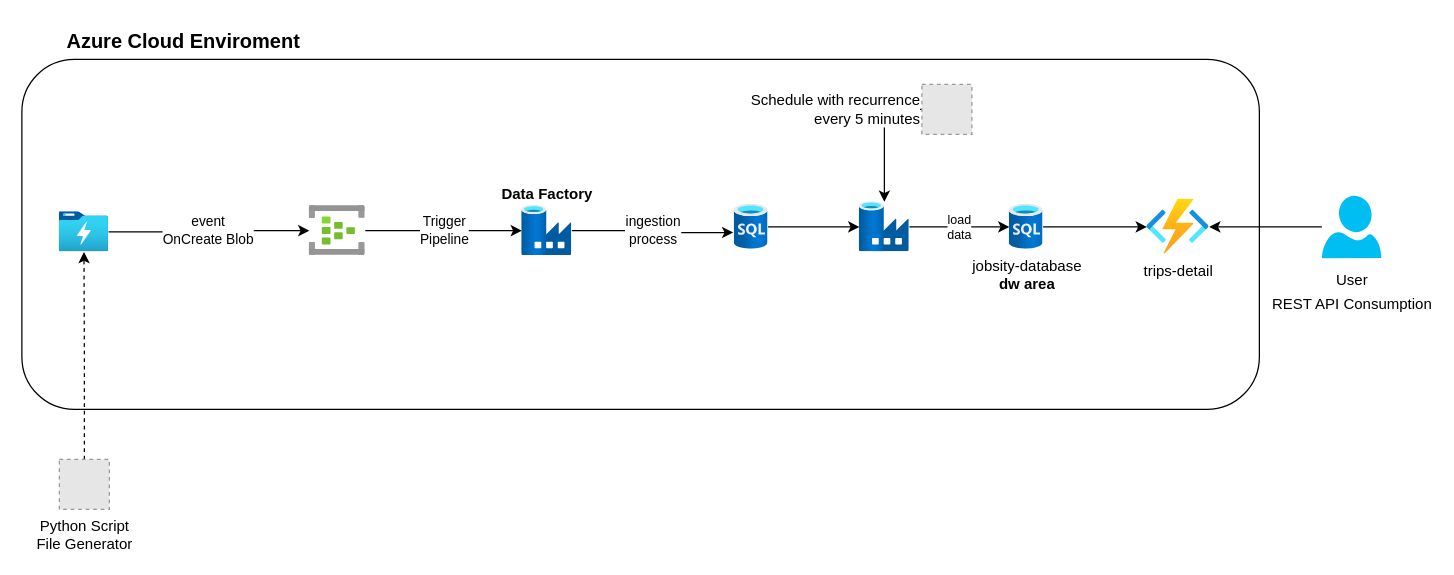
This 1454x575 diagram has some shape labels left out. Grey dashed boxes stand in for pictures. Here are the shapes that lost their labels. From the top down, the centre of each, then its label:
the point at 83,231: Landing Zone
the point at 337,230: Event Hub
the point at 751,226: jobsity-database stage area
